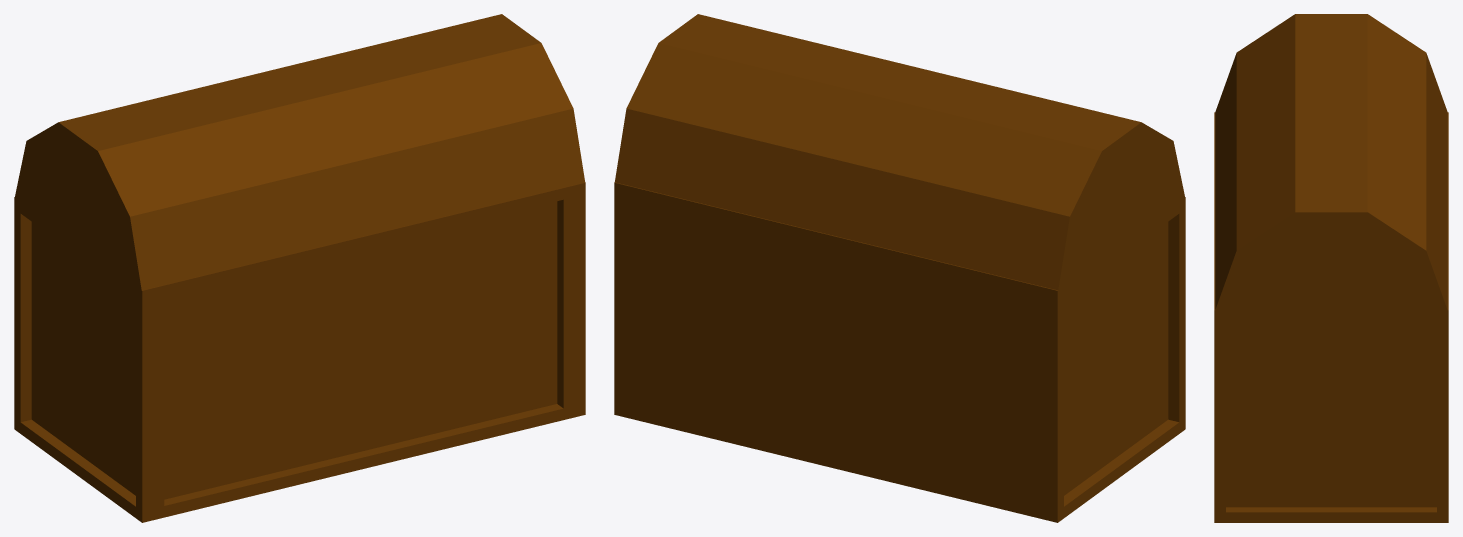
File: chest2.fbx
The picture shows the model from 3 angles, left to right: view 1: azimuth 30°, elevation 25°; view 2: azimuth 150°, elevation 25°; view 3: azimuth 270°, elevation 25°; orthographic projection. The views are drawn at different scales.
Visible parts, largest first — view 1: Cylinder.069, Cylinder; view 2: Cylinder.069, Cylinder; view 3: Cylinder, Cylinder.069.
Boxes of the visible parts, x1,y1,x2,y2 form: Cylinder.069: [14, 182, 585, 522]; Cylinder: [14, 14, 584, 292]; Cylinder.069: [614, 182, 1185, 522]; Cylinder: [615, 14, 1185, 293]; Cylinder: [1214, 14, 1448, 313]; Cylinder.069: [1214, 112, 1448, 522].
Size of the model in its own units: 200 by 146 by 100.
